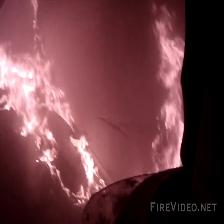fire: (160, 43, 181, 166), (1, 65, 49, 114)
